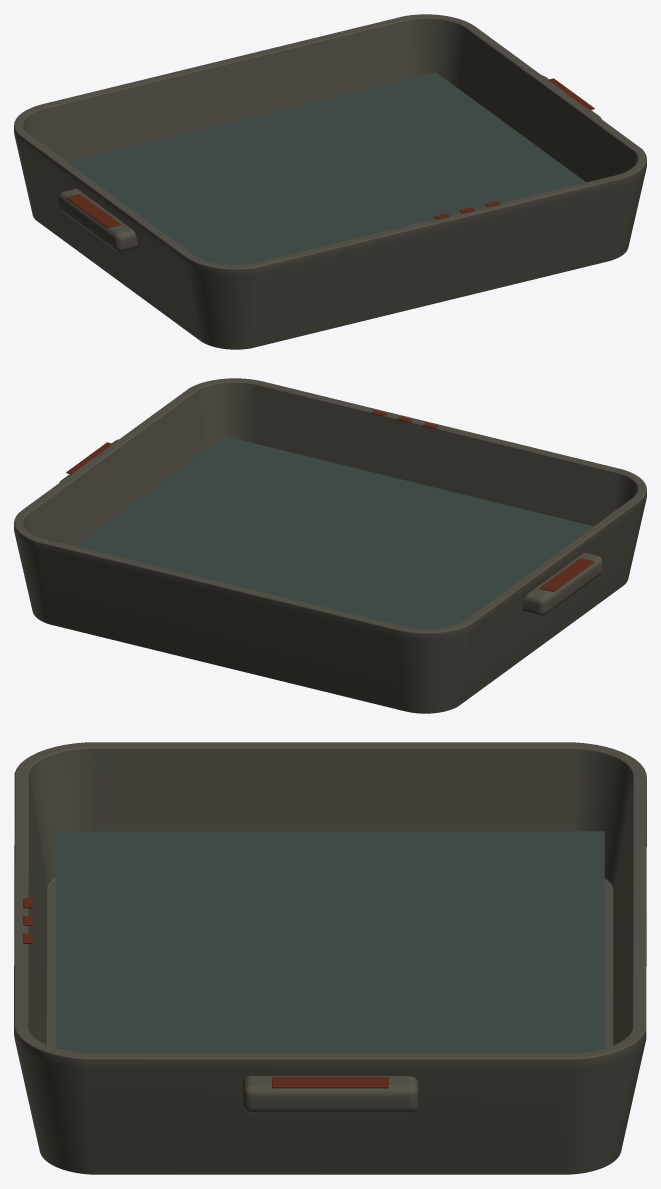
Rendered from C10_FixerTray.fbx.
3 renders of one model, top to bottom at view 1: azimuth 30°, elevation 25°; view 2: azimuth 150°, elevation 25°; view 3: azimuth 270°, elevation 25°, orthographic. The views are drawn at different scales.
Parts seen in each view (by area): view 1: Body_Mesh, LiquidMesh; view 2: Body_Mesh, LiquidMesh; view 3: Body_Mesh, LiquidMesh.
Boxes of the visible parts, x1,y1,x2,y2 form: Body_Mesh: (14, 14, 646, 349); LiquidMesh: (67, 72, 586, 265); Body_Mesh: (14, 378, 646, 713); LiquidMesh: (75, 436, 593, 629); Body_Mesh: (14, 742, 646, 1174); LiquidMesh: (56, 831, 604, 1053).
Size of the model in its own units: 0.344 by 0.061 by 0.27.
